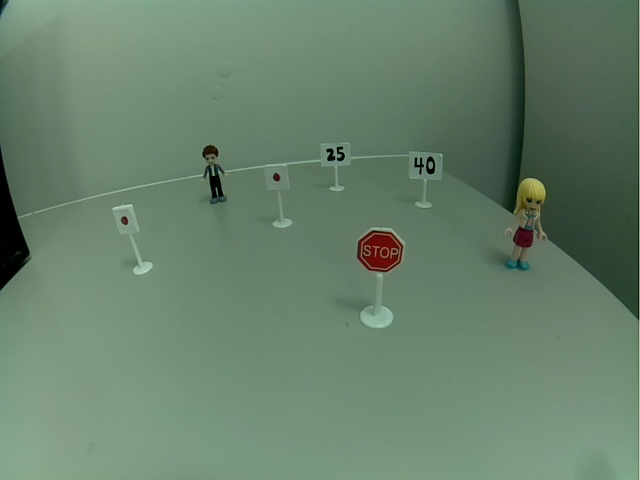people: (502, 176, 549, 273), (200, 143, 232, 206)
red light: (110, 203, 141, 237), (263, 163, 291, 191)
speed 25: (319, 141, 352, 168)
speed 40: (407, 149, 444, 182)
stop: (354, 225, 406, 275)
